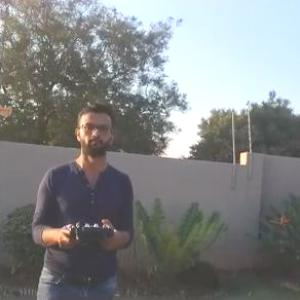follow: (27, 93, 140, 299)
